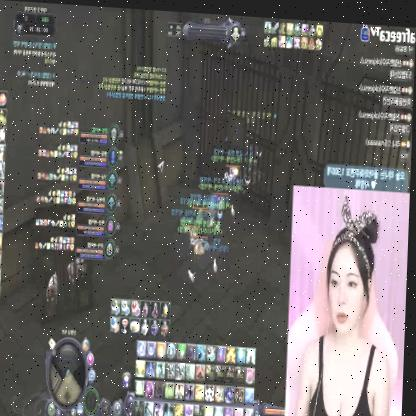streamer: (294, 188, 398, 416)
